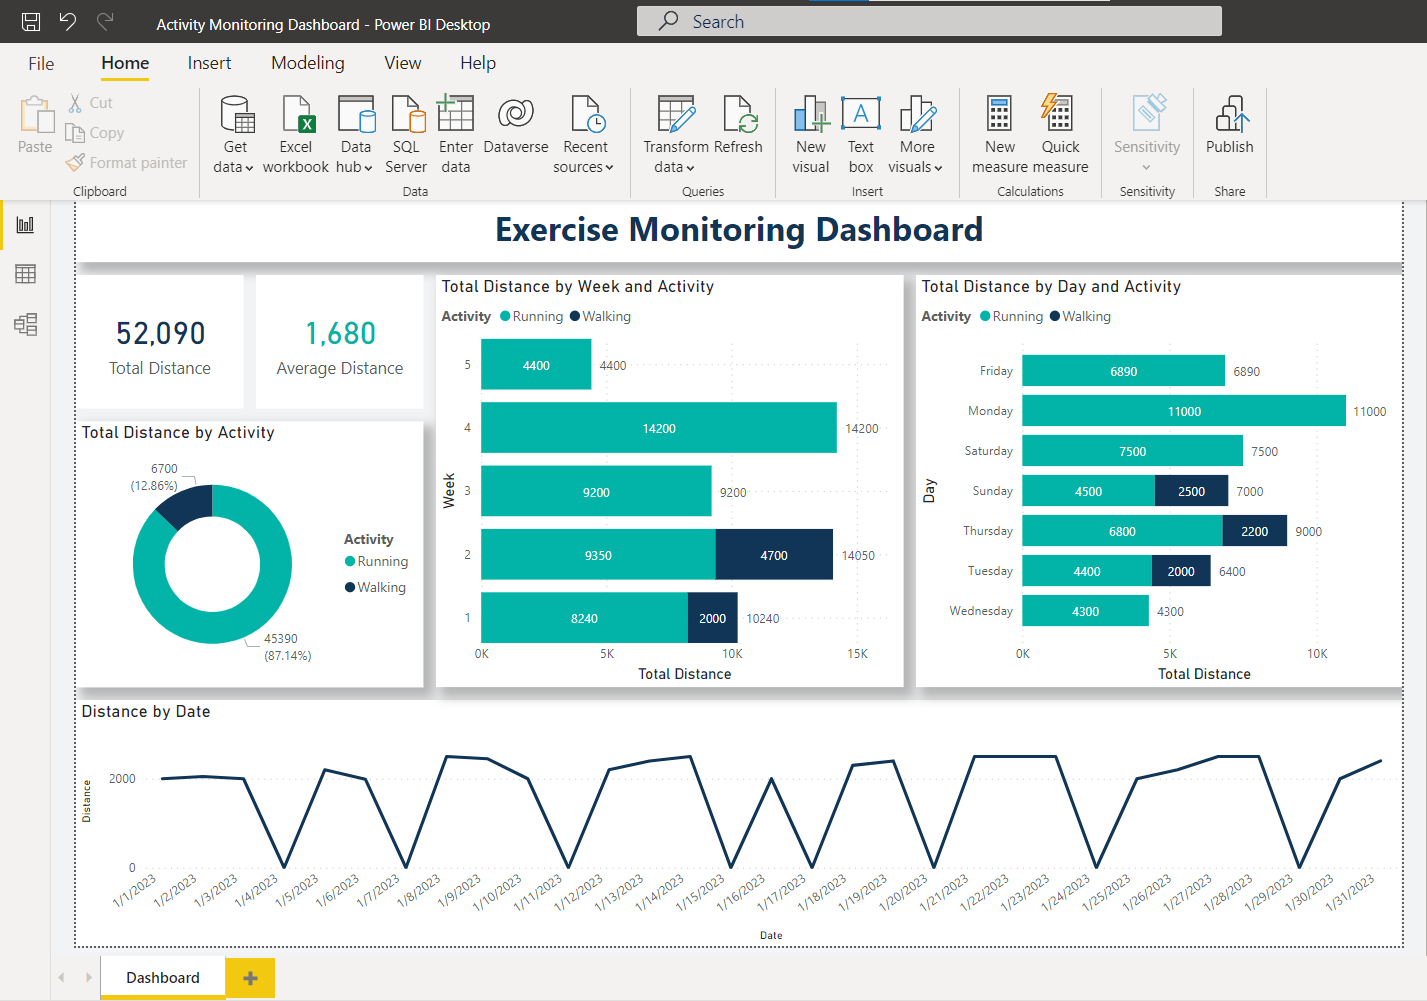

The page's visual inventory and layout, read from the dashboard file:
{"tool":"powerbi","page":{"name":"Dashboard","canvas":[1280,720],"ordinal":0},"visuals":[{"type":"textbox","box":[0,0,1279.6,60.3],"z":0},{"type":"card","fields":{"Values":["Basic Calculations.Total Distance"]},"box":[0,72.4,161.6,129],"z":1000},{"type":"card","fields":{"Values":["Basic Calculations.Average Distance"]},"box":[173.7,72.4,161.6,129],"z":2000},{"type":"donutChart","fields":{"Y":["Sum(FACT_Activity.Distance (Meters))"],"Category":["DIM_Activity.ActivityName"]},"box":[0,213.5,335.3,256.9],"z":3000},{"type":"lineChart","fields":{"Y":["Sum(FACT_Activity.Distance (Meters))"],"Category":["FACT_Activity.Date"]},"box":[0,482.4,1279.6,237.6],"z":4000},{"type":"barChart","fields":{"Y":["Sum(FACT_Activity.Distance (Meters))"],"Category":["DIM_Date.Week of Year"],"Series":["DIM_Activity.ActivityName"]},"box":[347.3,72.4,451.1,398],"z":5000},{"type":"barChart","fields":{"Y":["Sum(FACT_Activity.Distance (Meters))"],"Category":["DIM_Date.Day Name"],"Series":["DIM_Activity.ActivityName"]},"box":[810.5,72.4,469.1,398],"z":6000}]}

Visuals, with their boxes on the page's 1280x720 design canvas (x1, y1, x2, y2). These are canvas units, not pixel positions in the 1427x1001 screenshot, which may show the page scaled, cropped or inside an application window:
textbox: locate(0, 0, 1280, 60)
card - Basic Calculations.Total Distance: locate(0, 72, 162, 201)
card - Basic Calculations.Average Distance: locate(174, 72, 335, 201)
donutChart - Sum(FACT_Activity.Distance (Meters)) x DIM_Activity.ActivityName: locate(0, 214, 335, 470)
lineChart - Sum(FACT_Activity.Distance (Meters)) x FACT_Activity.Date: locate(0, 482, 1280, 720)
barChart - Sum(FACT_Activity.Distance (Meters)) x DIM_Date.Week of Year: locate(347, 72, 798, 470)
barChart - Sum(FACT_Activity.Distance (Meters)) x DIM_Date.Day Name: locate(810, 72, 1280, 470)
